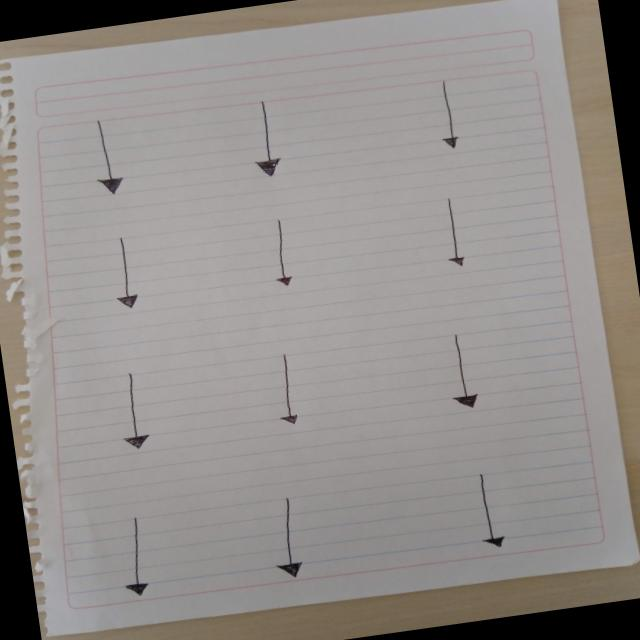arrow_line_down: (76, 119, 134, 208), (466, 472, 518, 564), (113, 511, 163, 602), (433, 194, 483, 284), (436, 332, 486, 422), (267, 491, 316, 580), (112, 369, 160, 457), (261, 350, 307, 439), (260, 216, 308, 294), (426, 75, 470, 158), (104, 234, 149, 311), (245, 96, 282, 180)
